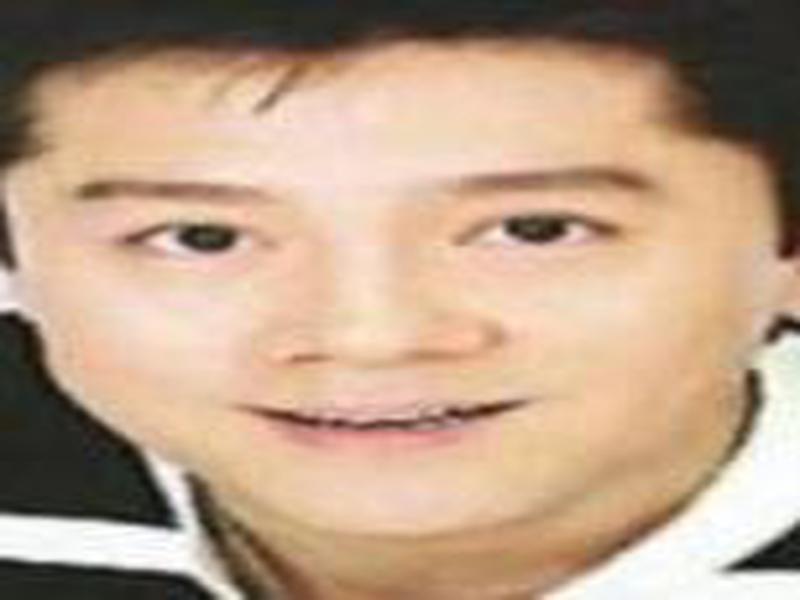without_mask: (25, 80, 746, 538)
